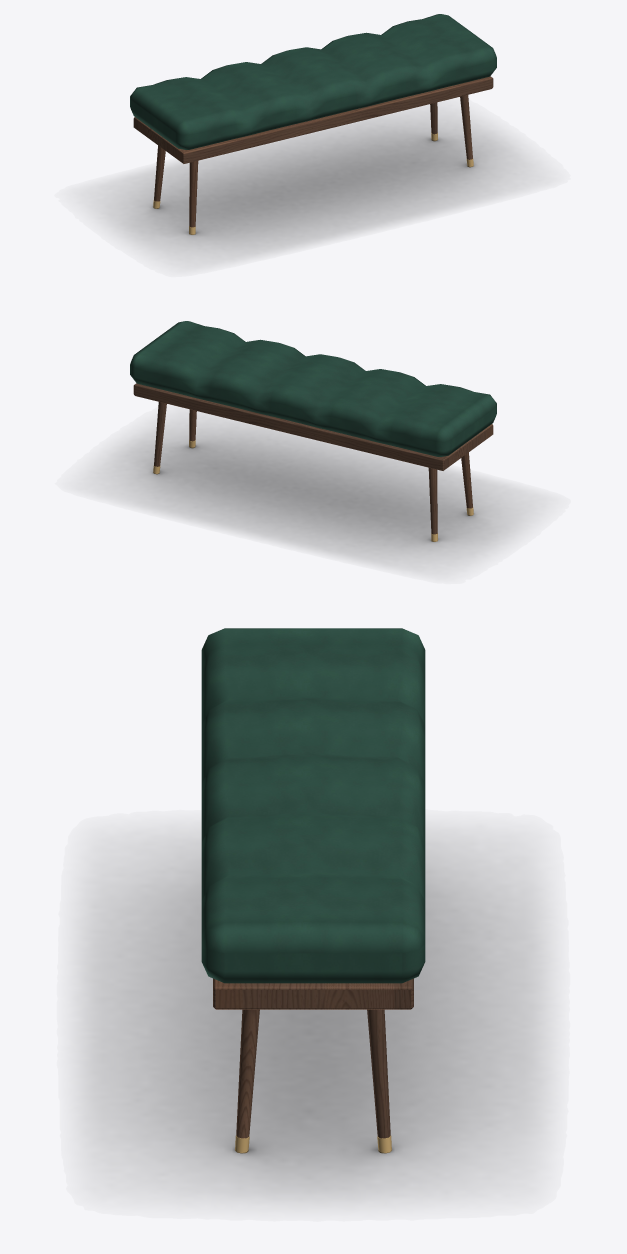
The model's file is bench.glb.
3 views of the same model, one above another, from view 1: azimuth 30°, elevation 25°; view 2: azimuth 150°, elevation 25°; view 3: azimuth 270°, elevation 25° (orthographic). The views are drawn at different scales.
Visible parts, largest first — view 1: bench_Shadow, bench_LOD0; view 2: bench_Shadow, bench_LOD0; view 3: bench_Shadow, bench_LOD0.
Part boxes in pixels (bbox=[...]): bench_Shadow: bbox=[106, 116, 518, 256]; bench_LOD0: bbox=[130, 14, 496, 234]; bench_Shadow: bbox=[107, 423, 519, 563]; bench_LOD0: bbox=[130, 321, 496, 541]; bench_Shadow: bbox=[86, 841, 540, 1196]; bench_LOD0: bbox=[201, 628, 425, 1153].
Size of what is drawn, in the model's own units: 1.86 by 0.473 by 0.9576.
Materials: 4 (3 with a texture image).
